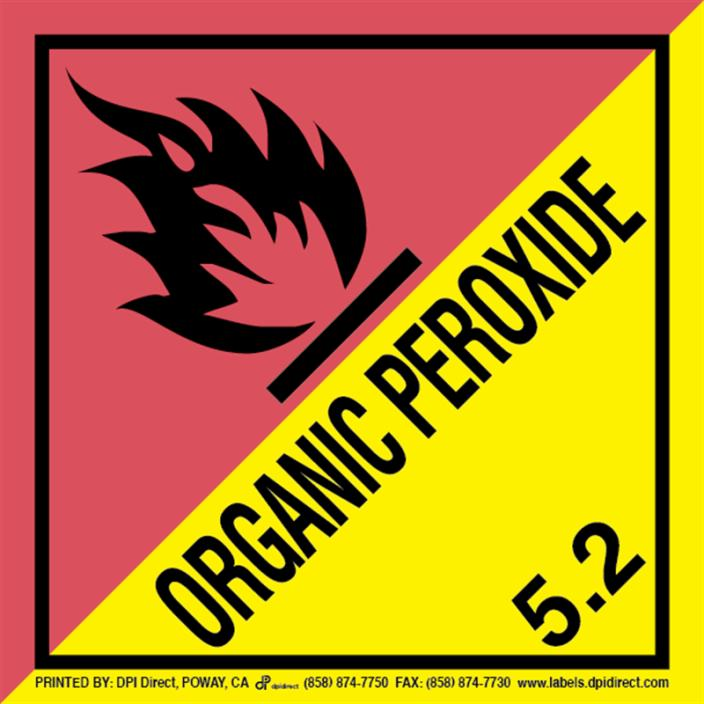defibrillator sign: (1, 1, 704, 704)
